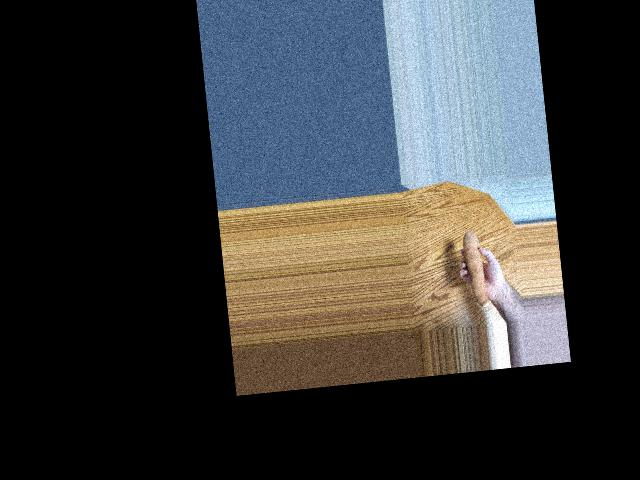sweet_potato: (456, 227, 487, 306)
